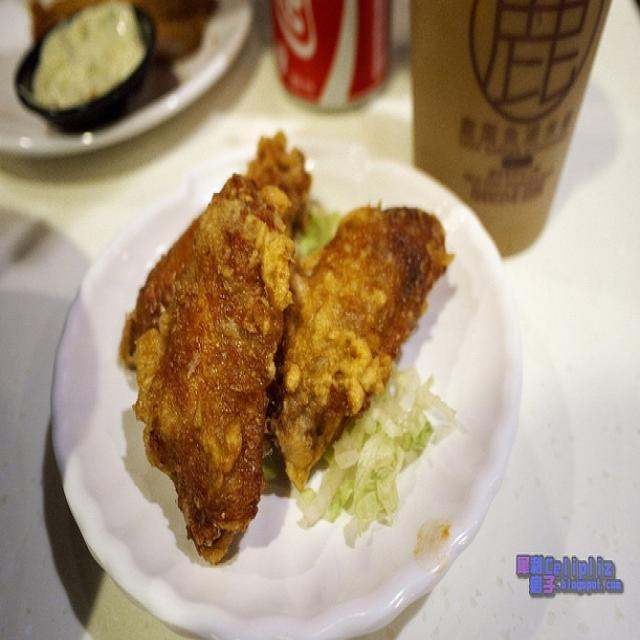Deep fried chicken wing: (112, 165, 450, 546)
